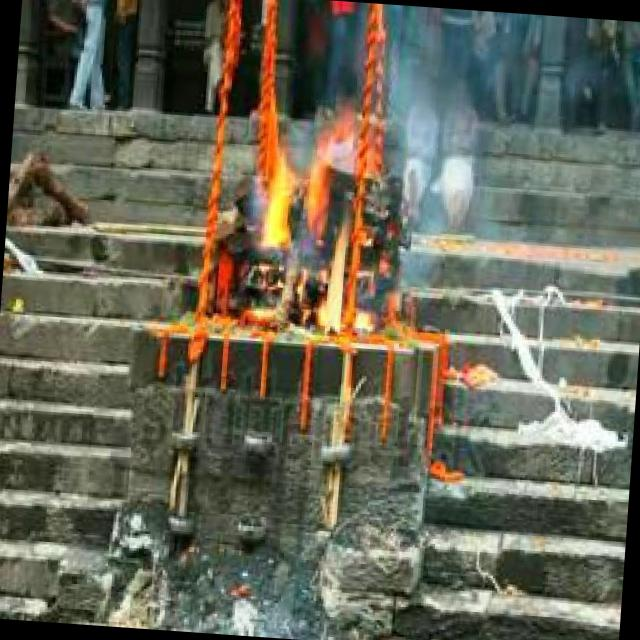Smoke: (250, 86, 385, 344)
